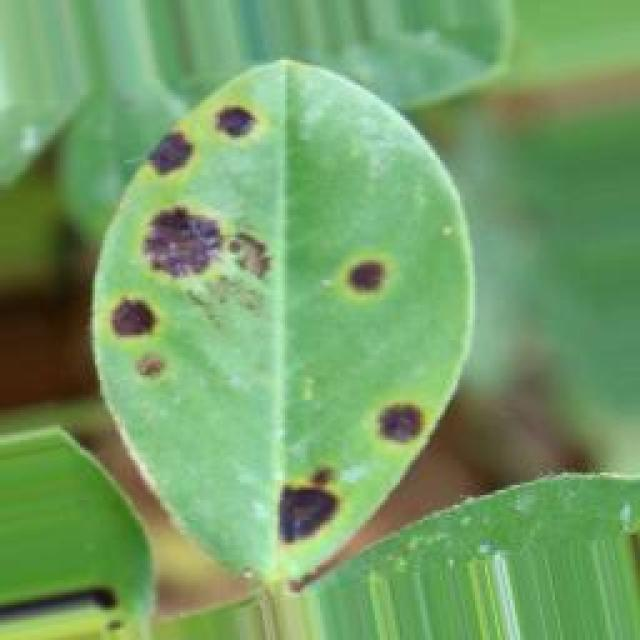Yellowish: (96, 75, 484, 572)
